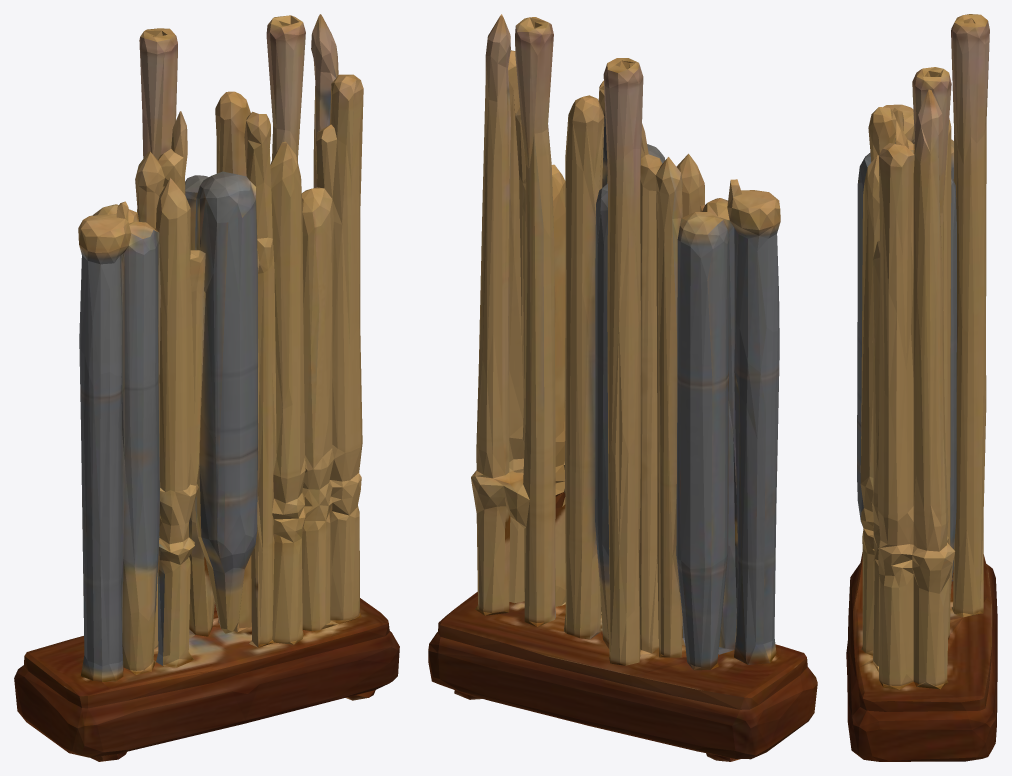
The model's file is pipe_rack.glb.
3 renders of one model, left to right at view 1: azimuth 30°, elevation 25°; view 2: azimuth 150°, elevation 25°; view 3: azimuth 270°, elevation 25°, orthographic.
Visible parts, largest first — view 1: textured_mesh.obj; view 2: textured_mesh.obj; view 3: textured_mesh.obj.
Boxes of the visible parts, left/top/right/bottom form: textured_mesh.obj: left=14, top=14, right=399, bottom=761; textured_mesh.obj: left=428, top=14, right=817, bottom=761; textured_mesh.obj: left=846, top=14, right=997, bottom=761.
Bounding box in the file's own units: 1.25 × 2.4 × 0.4978.
1 material, 1 textured.
